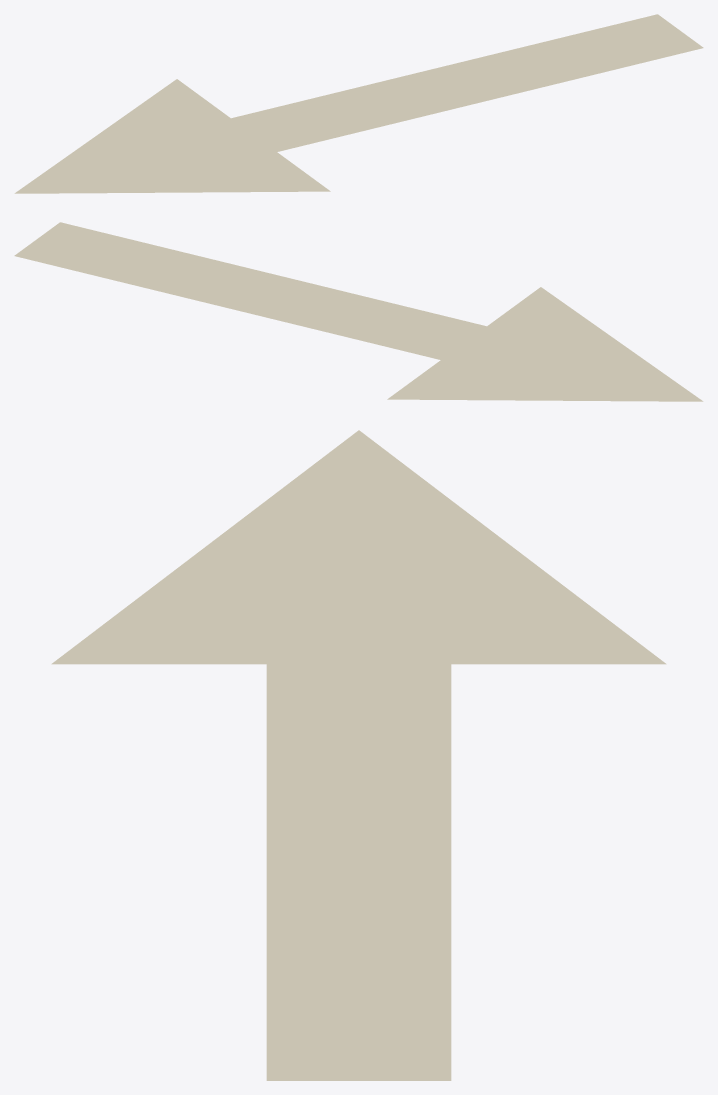
Rendered from MS_RM_LeftArrow.glb.
The picture shows the model from 3 angles, top to bottom: view 1: azimuth 30°, elevation 25°; view 2: azimuth 150°, elevation 25°; view 3: azimuth 270°, elevation 25°; orthographic projection. The views are drawn at different scales.
Visible parts, largest first — view 1: _MeshInstance3D_94; view 2: _MeshInstance3D_94; view 3: _MeshInstance3D_94.
Boxes of the visible parts, x1=… form: _MeshInstance3D_94: x1=14, y1=14, x2=703, y2=193; _MeshInstance3D_94: x1=14, y1=222, x2=703, y2=401; _MeshInstance3D_94: x1=51, y1=430, x2=666, y2=1080.
Bounding box in the file's own units: 2.5 × 0 × 1.
